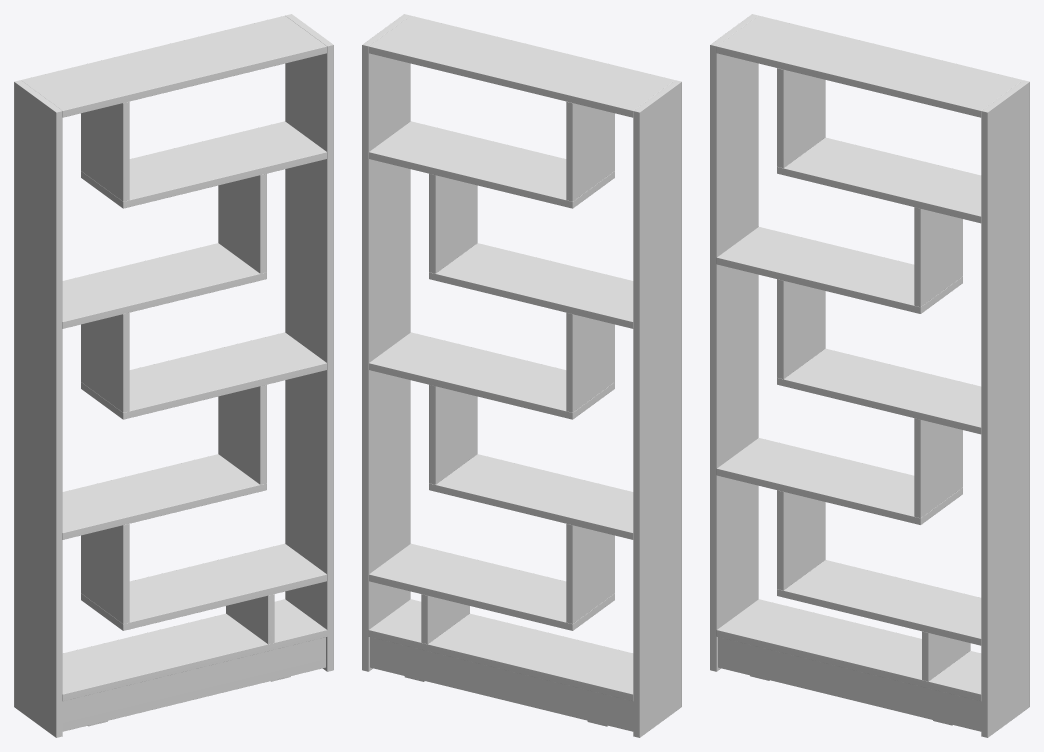
The picture shows the model from 3 angles, left to right: view 1: azimuth 30°, elevation 25°; view 2: azimuth 150°, elevation 25°; view 3: azimuth 330°, elevation 25°; orthographic projection.
Parts seen in each view (by area): view 1: wood; view 2: wood; view 3: wood.
Boxes of the visible parts, x1,y1,x2,y2 form: wood: [14, 14, 333, 737]; wood: [362, 14, 681, 737]; wood: [710, 14, 1029, 737].
Bounding box in the file's own units: 0.836 × 1.8 × 0.22.
Materials: 1 (1 with a texture image).
